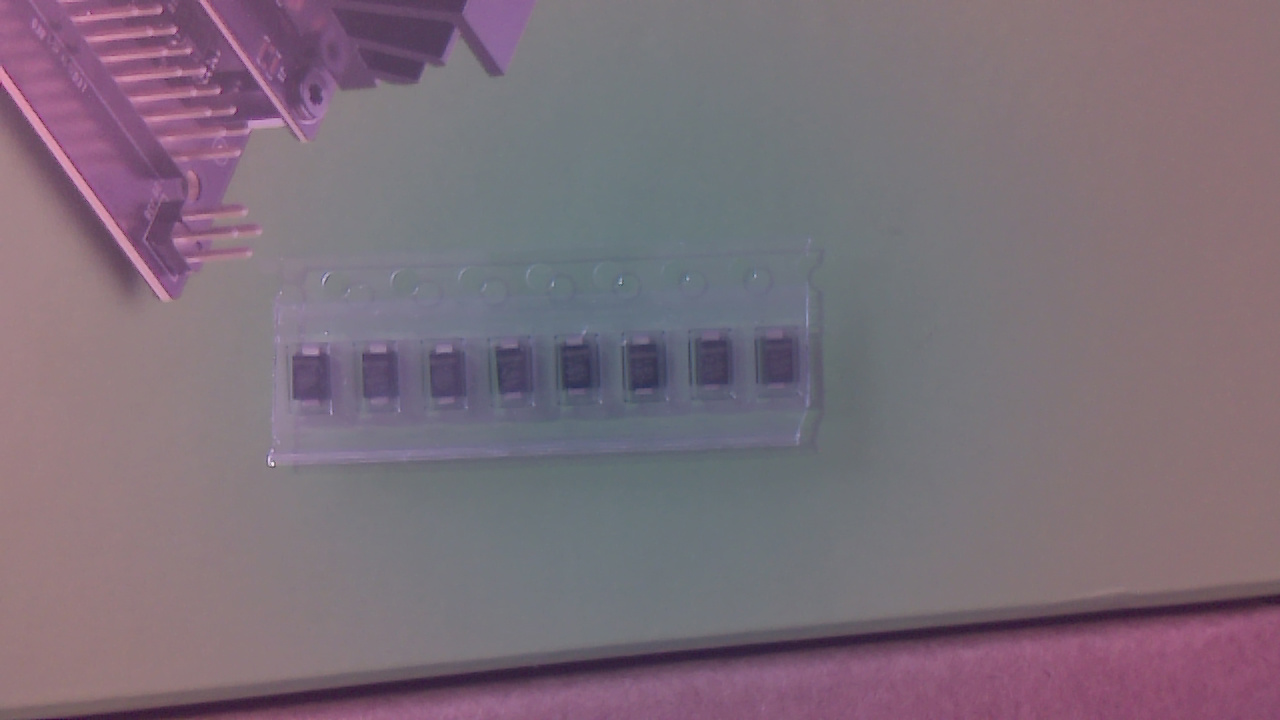Diode: (366, 349, 409, 416), (563, 335, 601, 404), (760, 334, 799, 401), (299, 349, 334, 420), (498, 343, 536, 408), (700, 334, 736, 401), (434, 348, 469, 413), (630, 340, 665, 405)
